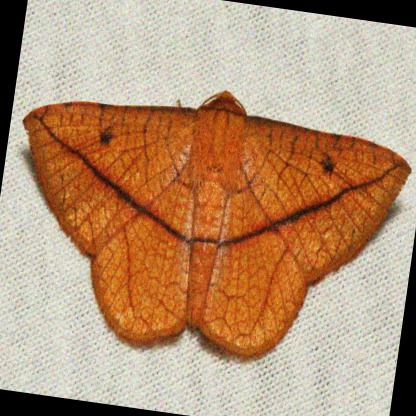Leaf Webber: (17, 80, 414, 360)
